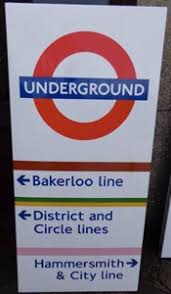London Underground: (16, 31, 148, 139)
